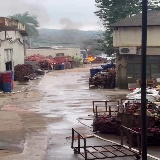fire: (87, 55, 95, 61)
